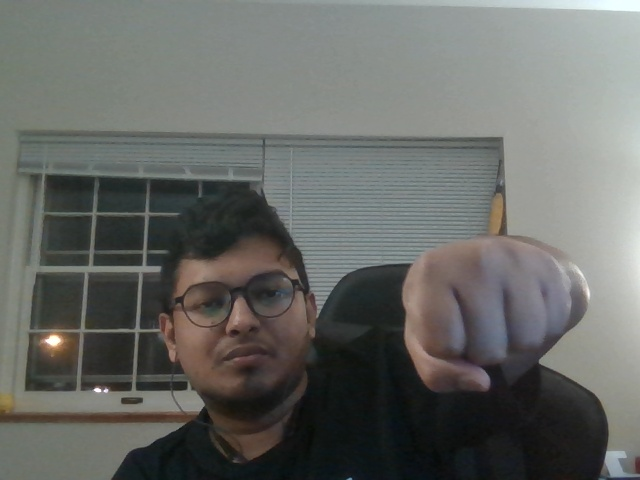yes: (359, 198, 611, 423)
